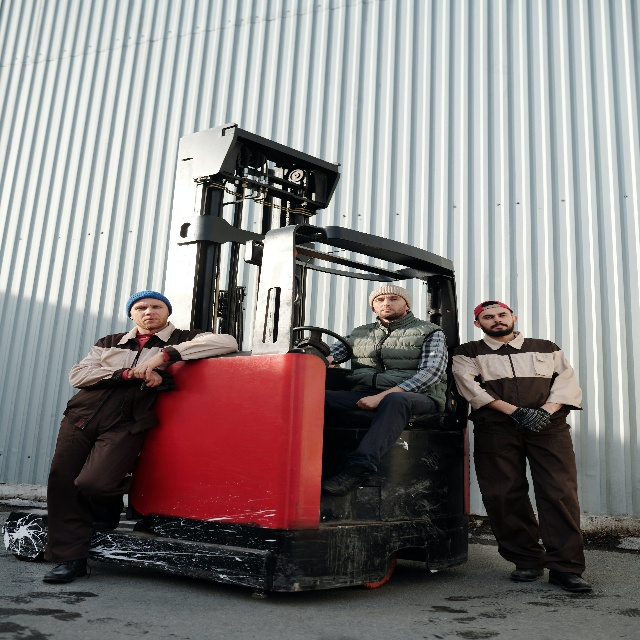Guantes: (509, 403, 551, 433)
Sin_guantes: (128, 351, 164, 381), (355, 393, 381, 411), (144, 370, 164, 387), (326, 355, 336, 369)
